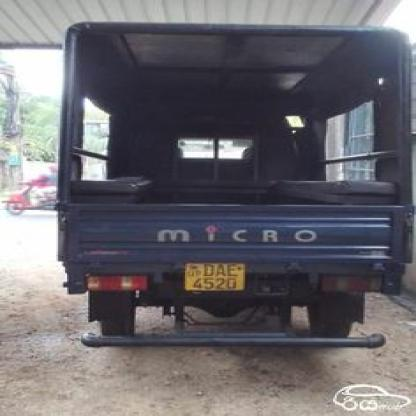Lorry back: (50, 15, 415, 356)
number plate: (183, 261, 246, 293)
